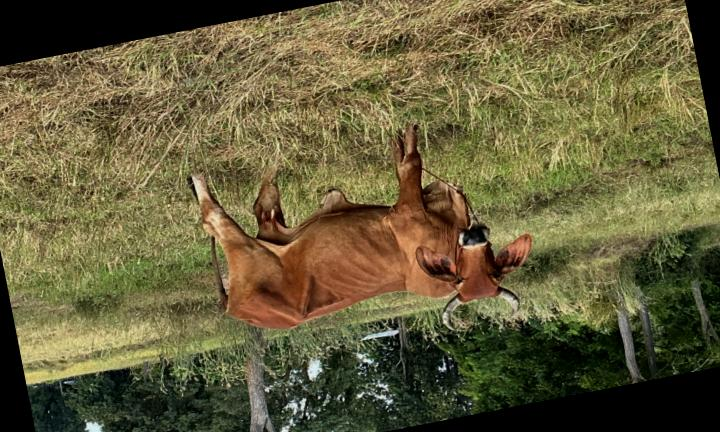Brahman: (191, 125, 531, 328)
